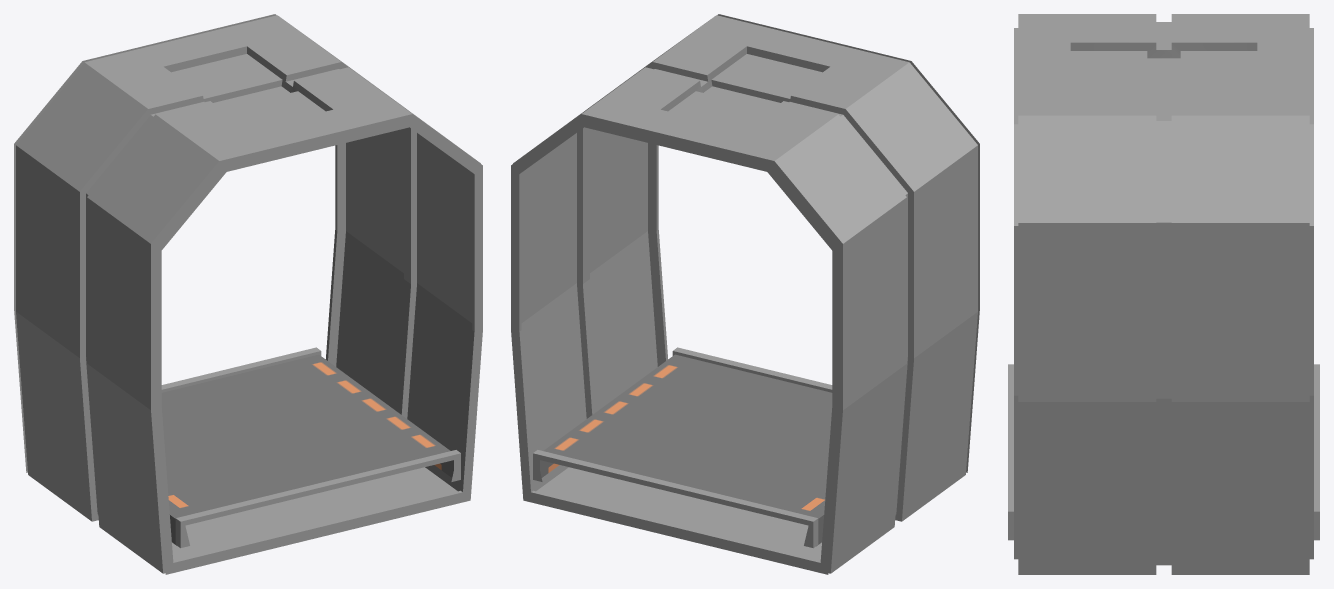
The model's file is CorridorSmallHall.fbx.
The picture shows the model from 3 angles, left to right: view 1: azimuth 30°, elevation 25°; view 2: azimuth 150°, elevation 25°; view 3: azimuth 270°, elevation 25°; orthographic projection. The views are drawn at different scales.
Visible parts, largest first — view 1: CorridorSmallHall; view 2: CorridorSmallHall; view 3: CorridorSmallHall.
Boxes of the visible parts, box(x1,y1,x2,y2) form: CorridorSmallHall: box(14, 14, 482, 574); CorridorSmallHall: box(511, 14, 979, 574); CorridorSmallHall: box(1008, 14, 1319, 574).
Bounding box in the file's own units: 275 × 318 × 209.
2 materials, 1 textured.
